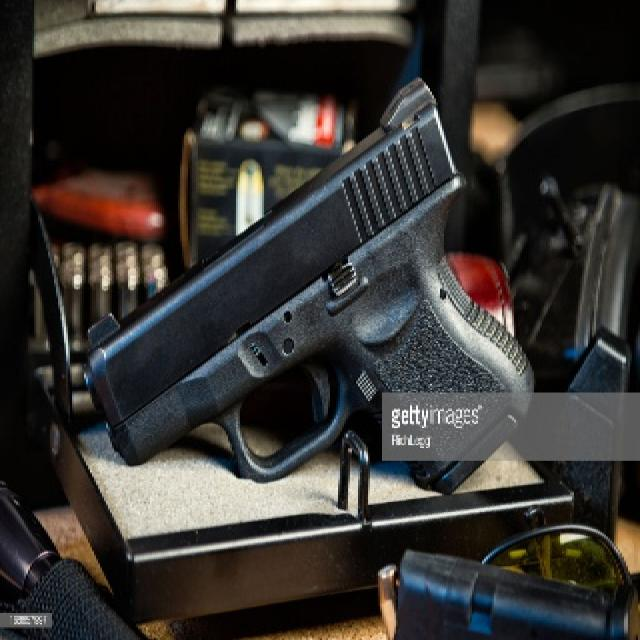handgun: (87, 62, 539, 486)
